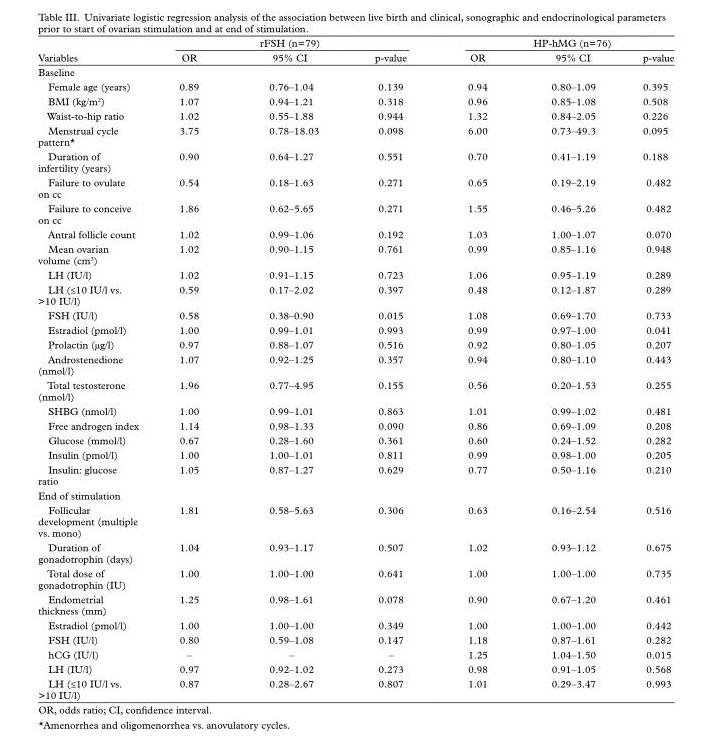table: (37, 36, 673, 700)
table column: (37, 36, 158, 700), (233, 36, 346, 700), (518, 36, 618, 700), (346, 36, 436, 700), (436, 36, 518, 700), (158, 36, 233, 700), (618, 36, 673, 700)
table column header: (37, 36, 673, 64)
table projected row header: (37, 487, 673, 502), (37, 64, 673, 78)
table row: (37, 502, 673, 539), (37, 122, 673, 148), (37, 148, 673, 174), (37, 174, 673, 200), (37, 200, 673, 226), (37, 241, 673, 267), (37, 281, 673, 307), (37, 351, 673, 377), (37, 377, 673, 403), (37, 461, 673, 487), (37, 539, 673, 565), (37, 565, 673, 591), (37, 591, 673, 617), (37, 675, 673, 700), (37, 49, 673, 64), (37, 78, 673, 93), (37, 93, 673, 108), (37, 226, 673, 241), (37, 307, 673, 322), (37, 336, 673, 351), (37, 403, 673, 418), (37, 432, 673, 447), (37, 487, 673, 502), (37, 617, 673, 632), (37, 646, 673, 661), (37, 64, 673, 78), (37, 108, 673, 122), (37, 267, 673, 281), (37, 322, 673, 336), (37, 418, 673, 432), (37, 447, 673, 461), (37, 632, 673, 646), (37, 661, 673, 675), (37, 36, 673, 49)
table spanning cell: (158, 36, 436, 49), (37, 36, 158, 64), (436, 36, 673, 49)
